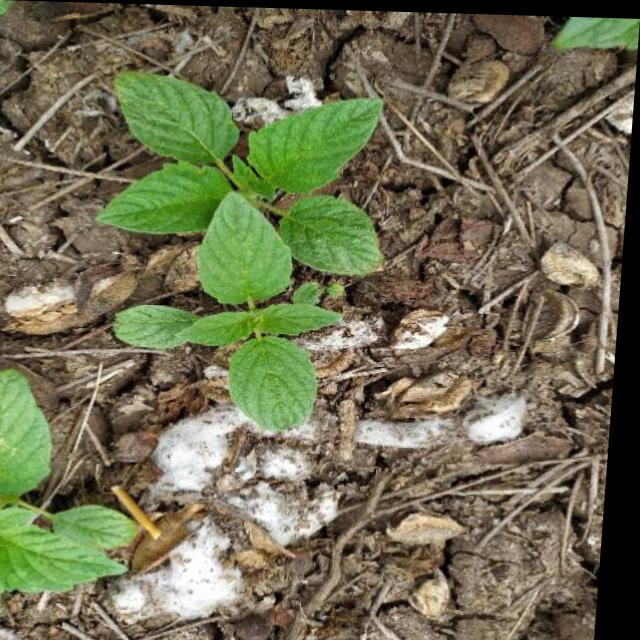crop: (82, 63, 411, 445), (0, 335, 155, 635)
